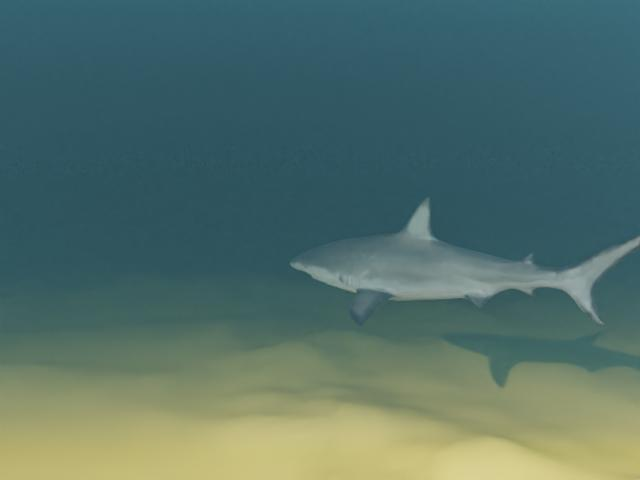Carribean Shark.001: (290, 197, 640, 326)
